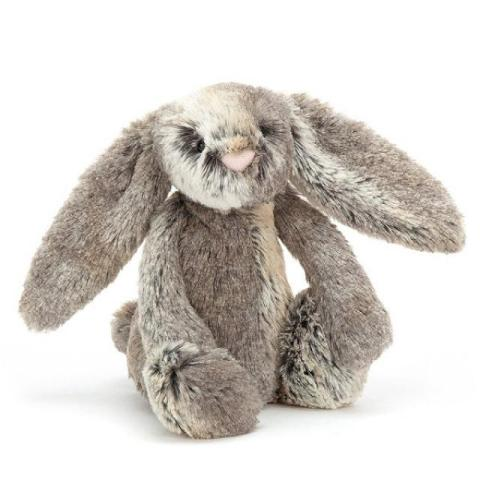small_animal: (16, 80, 467, 442)
